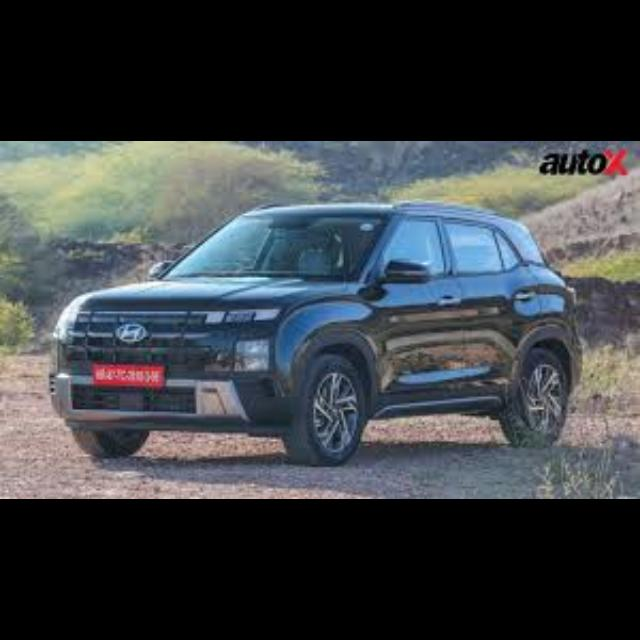number-plate: (90, 364, 165, 387)
vehicles: (35, 190, 598, 474)
